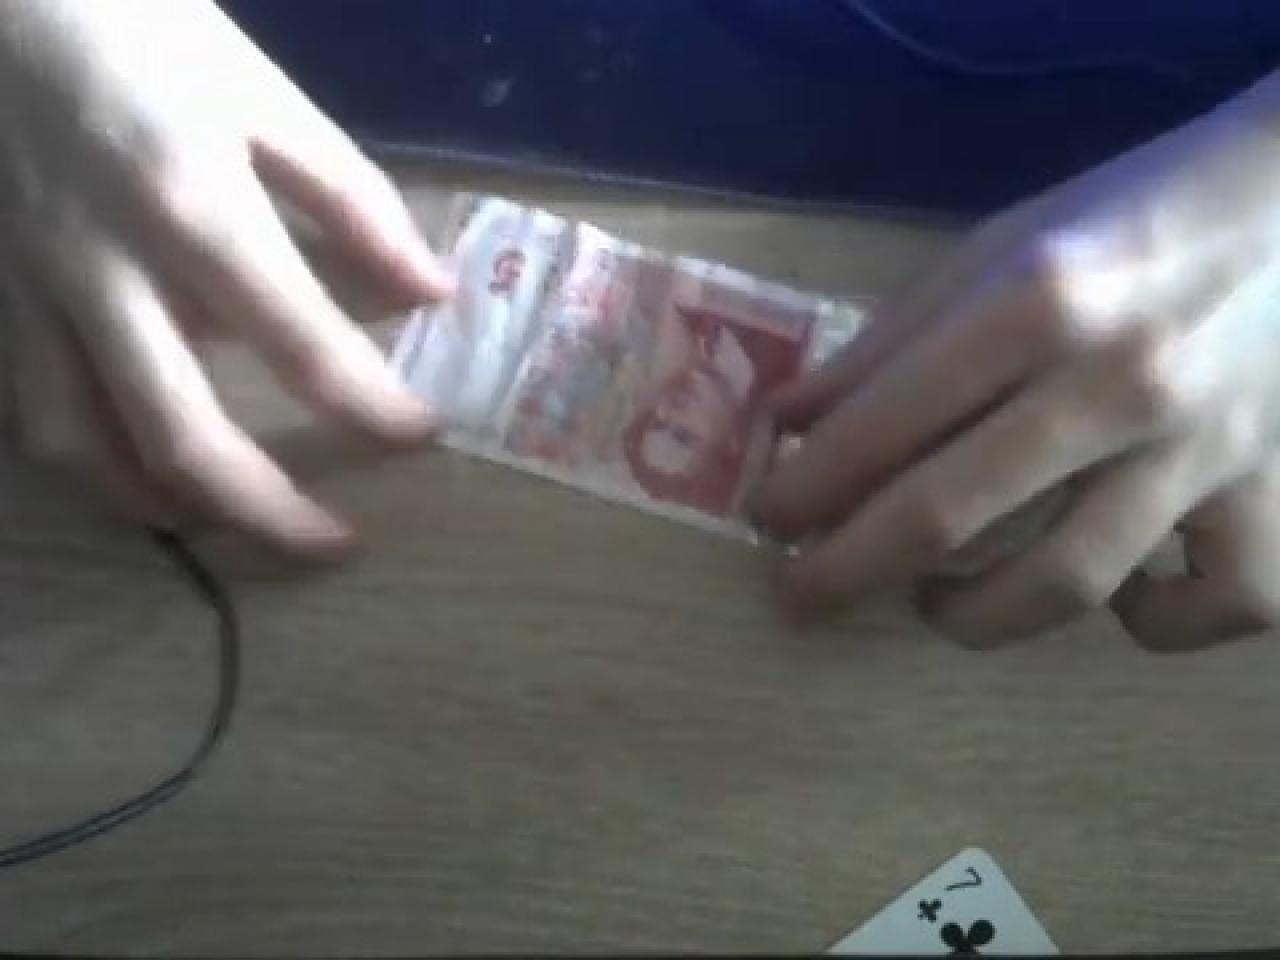5leva: (392, 200, 862, 550)
